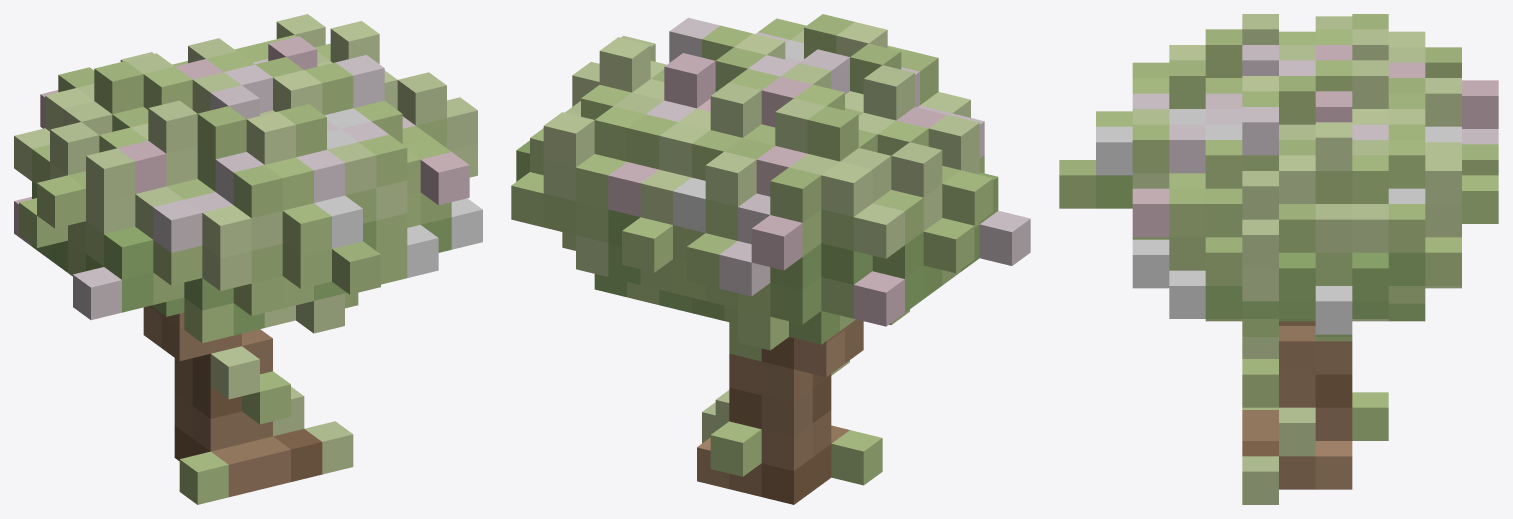
The model's file is apple_mature_spring.glb.
3 views of the same model, side by side, from view 1: azimuth 30°, elevation 25°; view 2: azimuth 150°, elevation 25°; view 3: azimuth 270°, elevation 25° (orthographic). The views are drawn at different scales.
Visible parts, largest first — view 1: apple_mature_spring; view 2: apple_mature_spring; view 3: apple_mature_spring.
Boxes of the visible parts, x1,y1,x2,y2 form: apple_mature_spring: (14, 14, 482, 504); apple_mature_spring: (511, 14, 1030, 504); apple_mature_spring: (1059, 14, 1498, 504).
Bounding box in the file's own units: 13 × 12 × 12.
